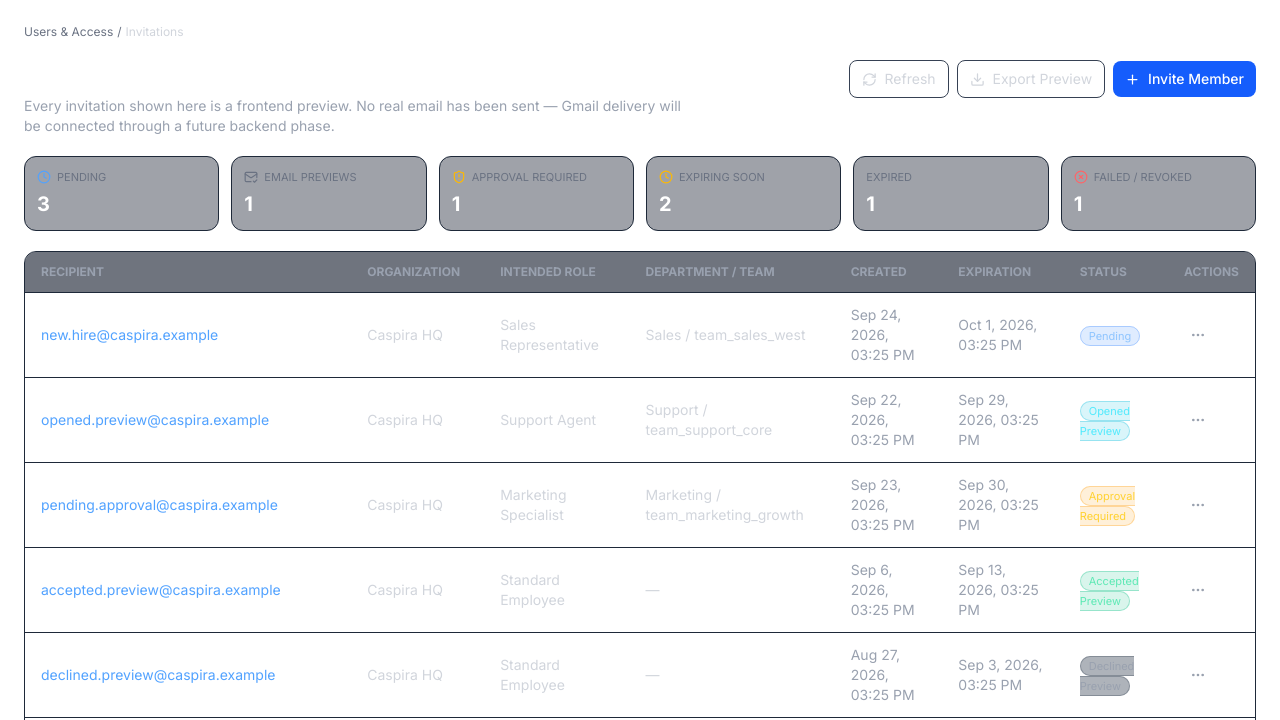
Test: InvitationsList › opens the detail drawer with a frontend-only preview notice
Click the button "new.hire@caspira.example".
click(130, 334)  # box [41, 324, 218, 344]
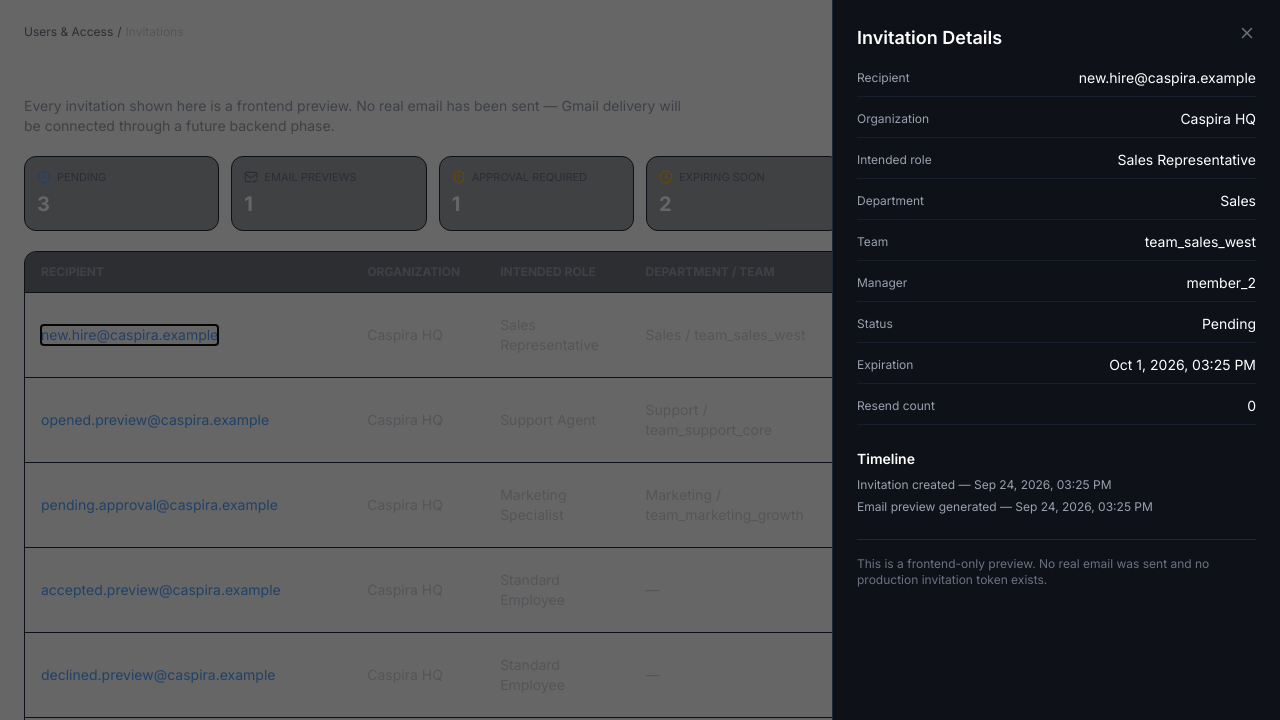
Expected: the text "frontend-only preview" is shown, [857, 556, 1209, 587]
